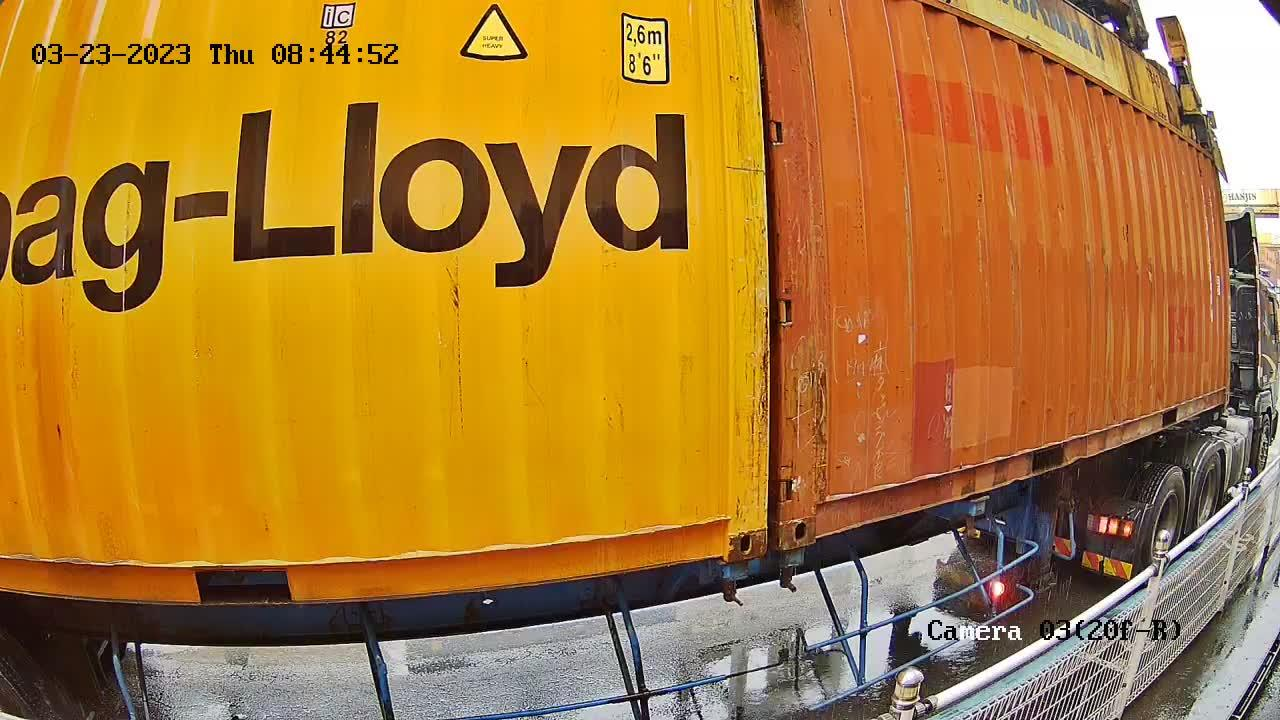Cone: (718, 558, 755, 601), (779, 549, 808, 590)
Hole_L: (780, 474, 841, 551)
Hole_R: (686, 488, 767, 562)
Tire: (1142, 467, 1187, 575), (1192, 455, 1222, 542)
